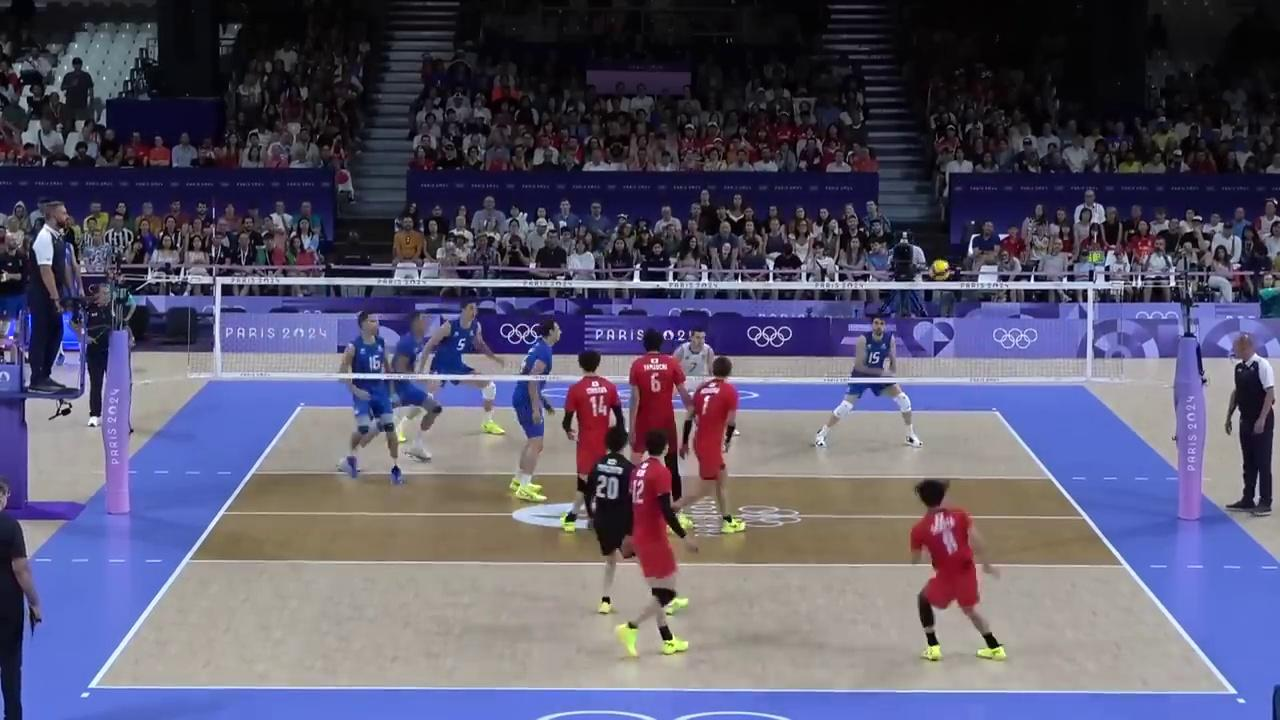ball: (928, 259, 949, 281)
